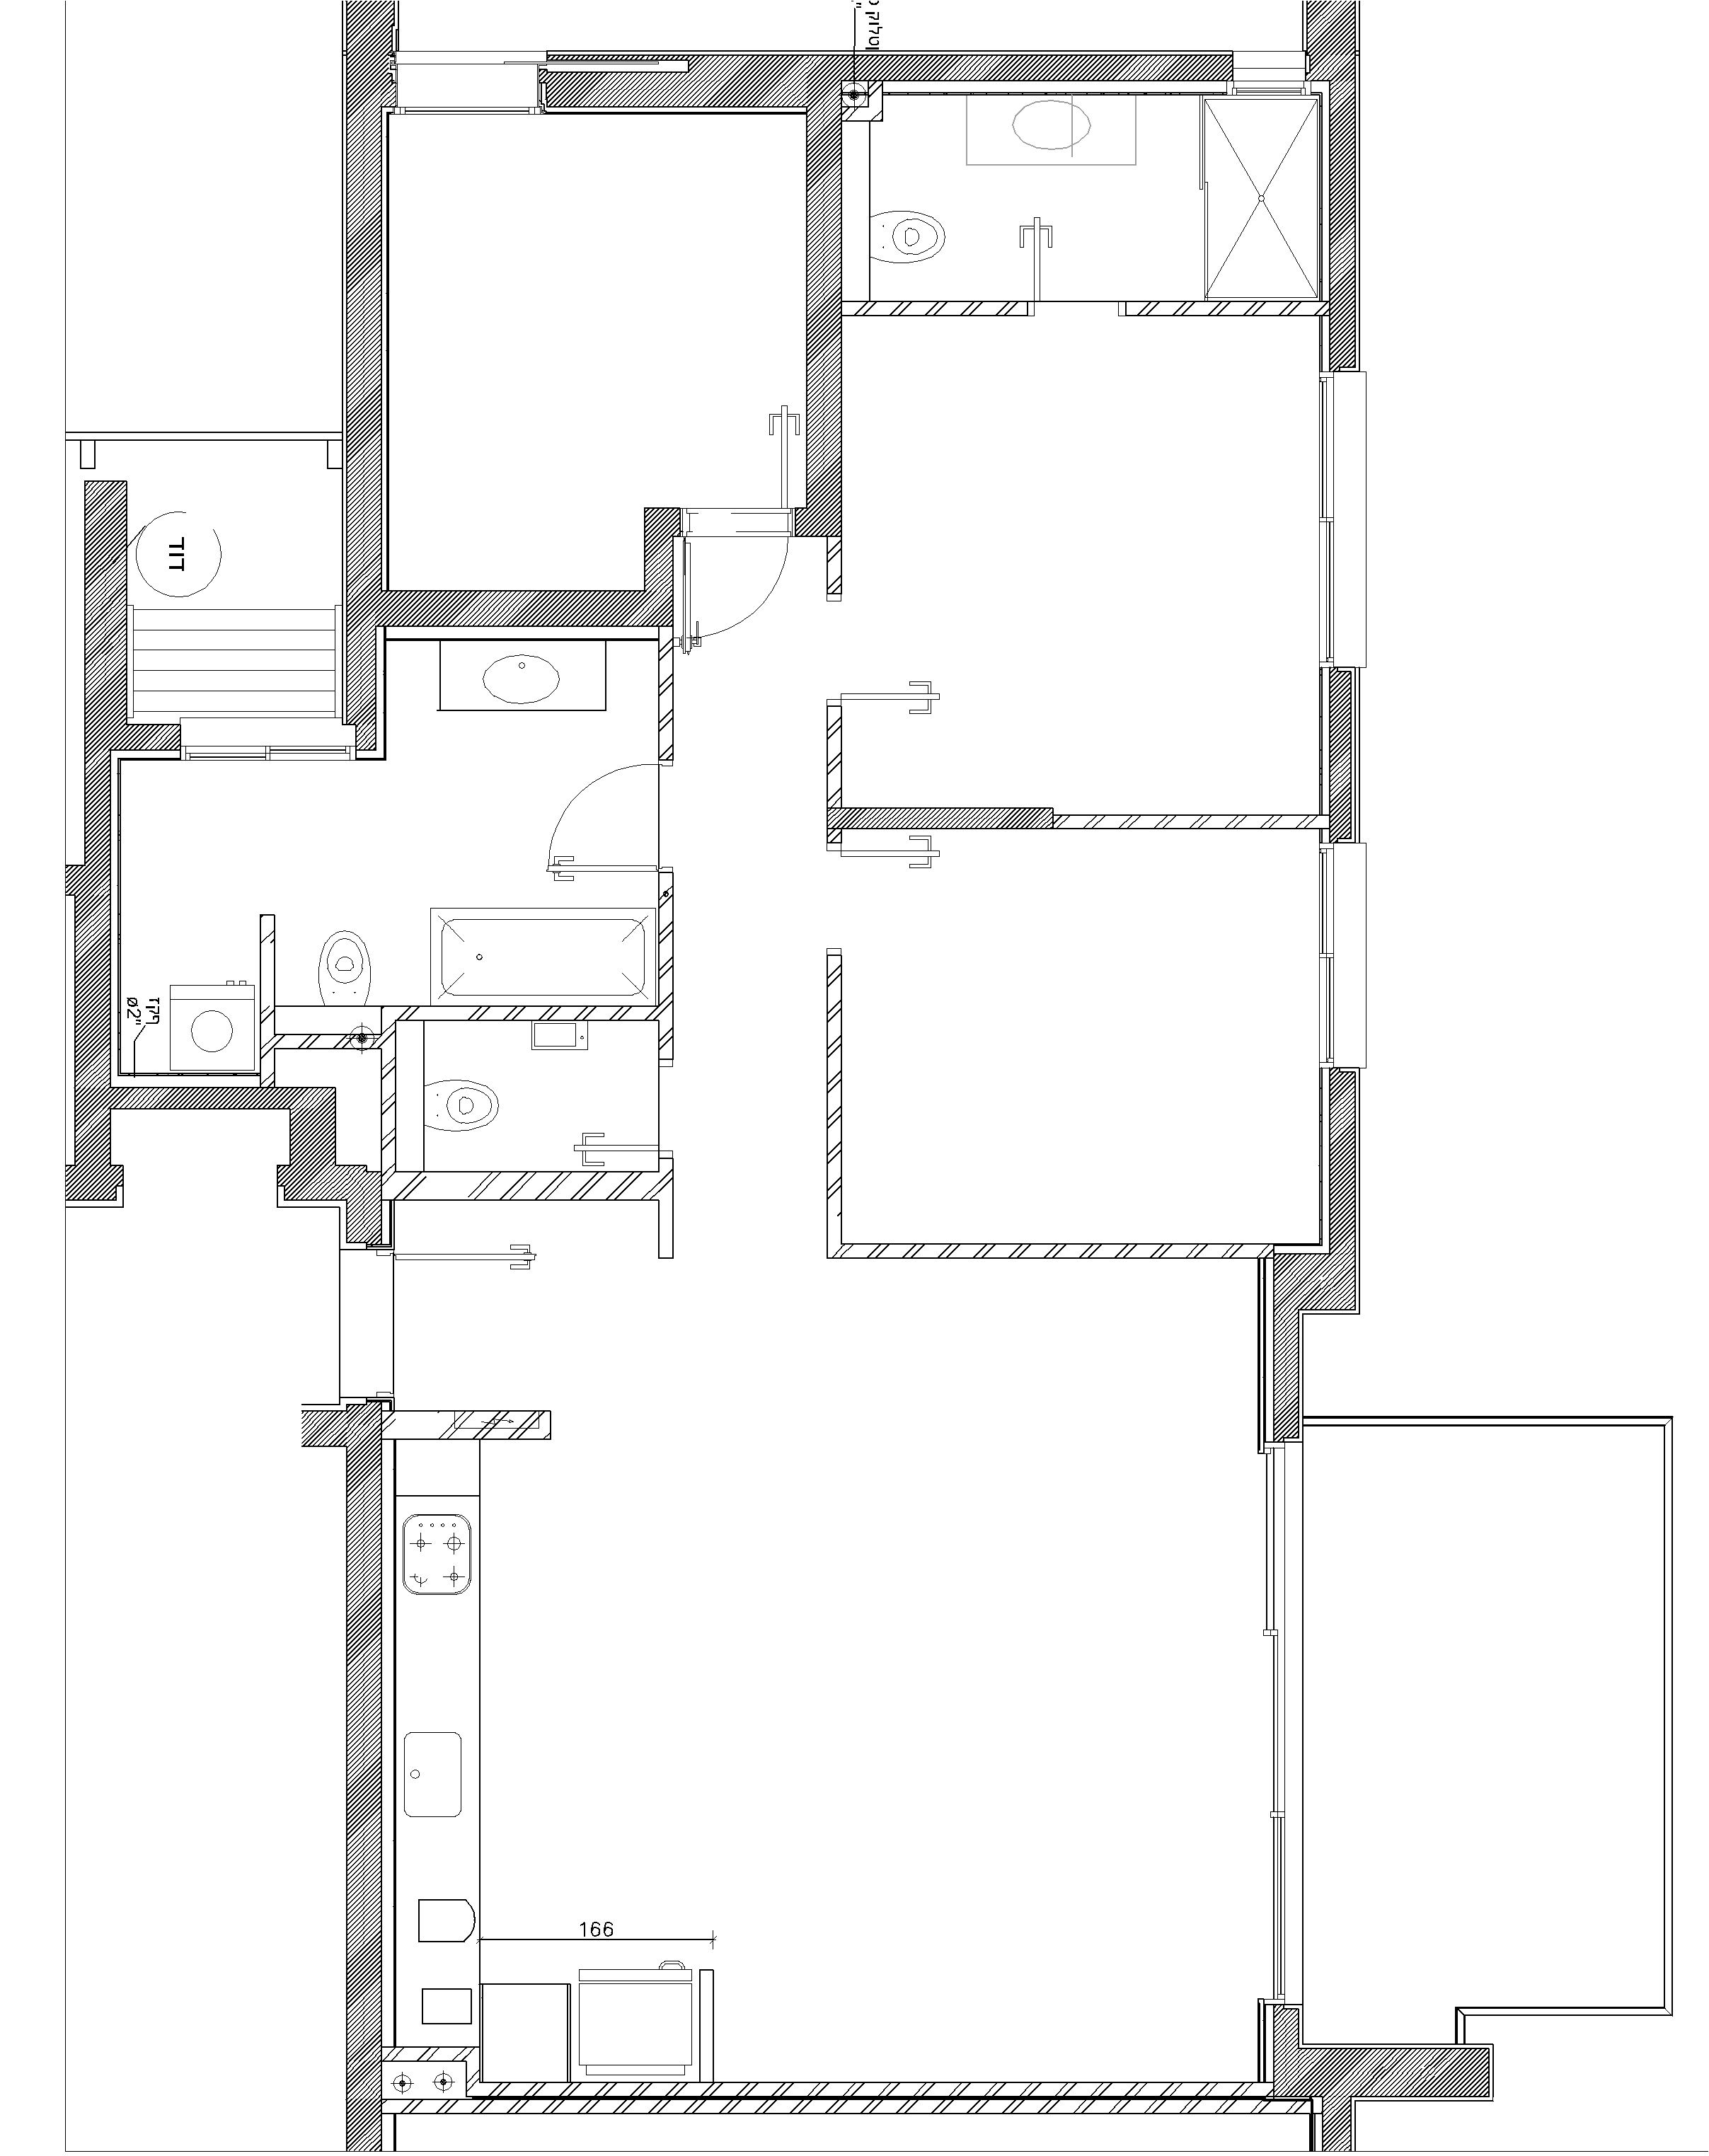door: (536, 761, 658, 884), (676, 542, 800, 644)
wall: (348, 10, 376, 726), (88, 500, 110, 1206)
window: (1320, 369, 1366, 668), (1319, 843, 1368, 1067), (1229, 49, 1308, 100)
